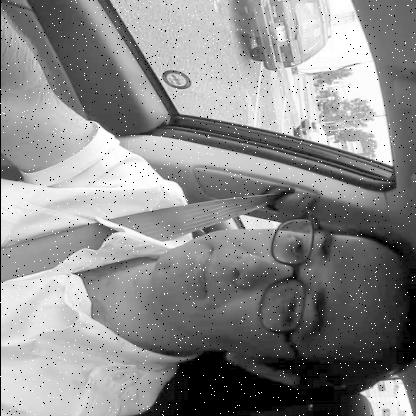seatbelt: (3, 183, 416, 405)
